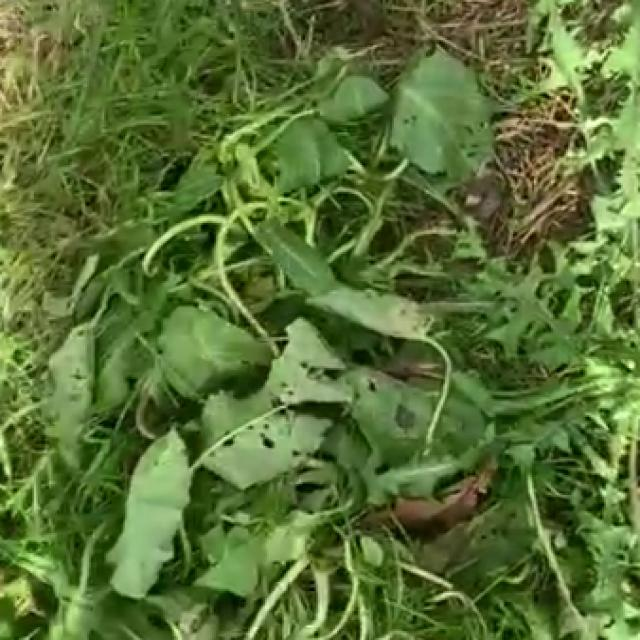organic waste: (57, 40, 604, 578)
